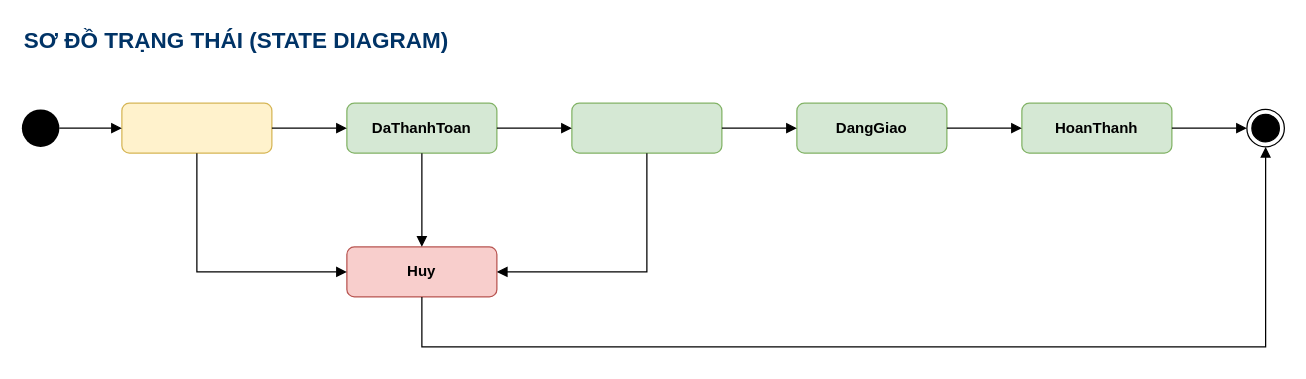
Some shapes in this 1306 by 379 pixel diagram are drawn without their labels. The shapes that lost their labels are listed below. From the top down, each one's centre as x and y in pixels, then its label:
pixel 196 127: ChoThanhToan
pixel 646 127: DangXuLy
